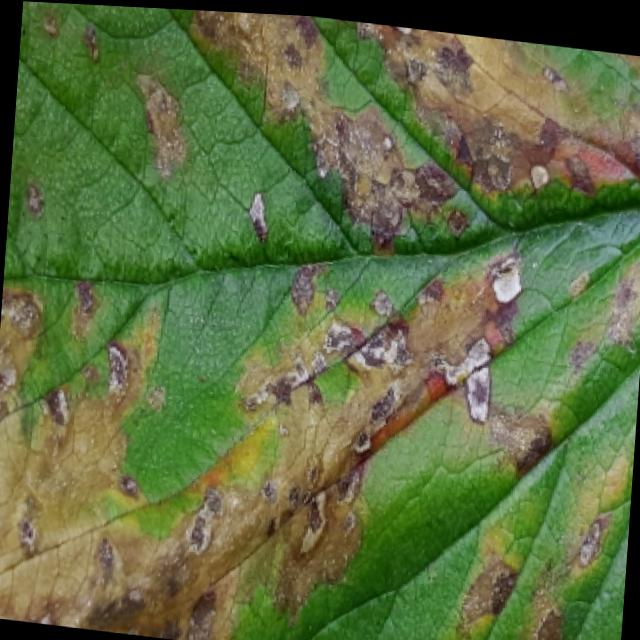Angular Leafspot: (0, 1, 640, 640)
